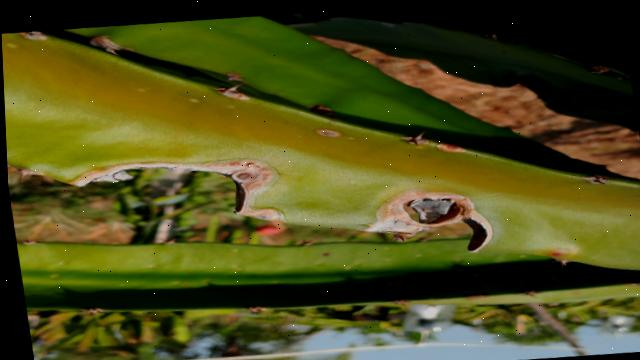stemcanker: (302, 121, 348, 143)
